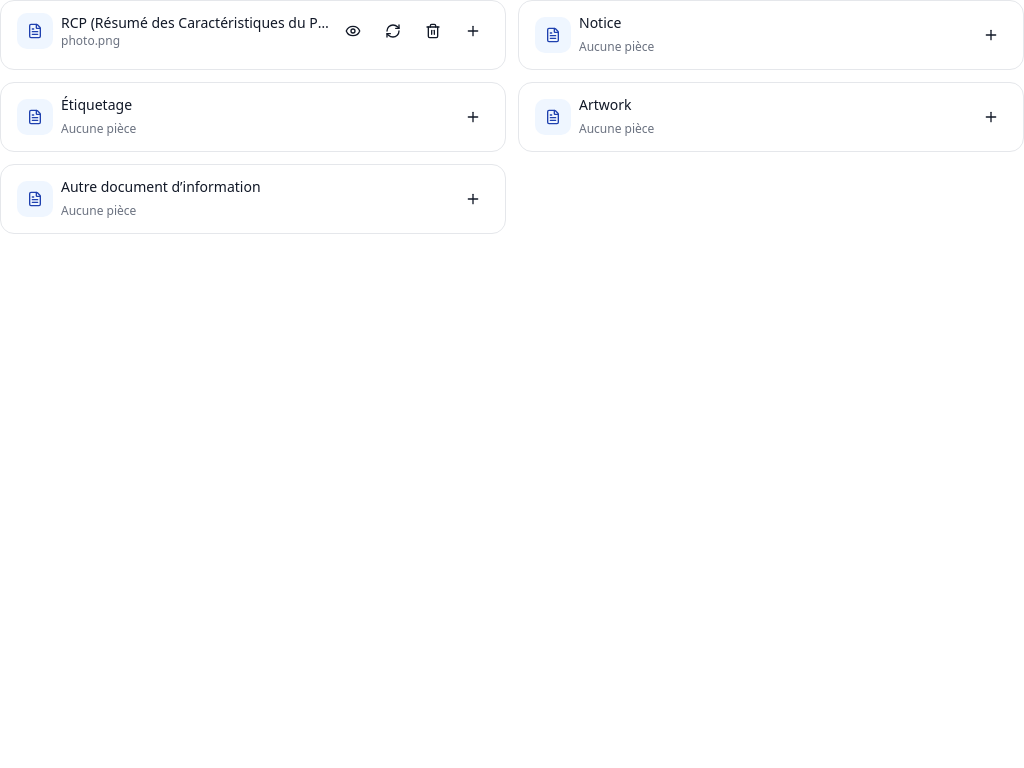
Scenario: DocTypeCards — ajout de pièces (wizard produit) › APERÇU : l’œil ouvre la pièce au premier plan (dialog nommé par le fichier)
The image size is (1024, 768).
Click the button named "Prévisualiser" at (353, 31), box top-left (337, 15), bottom-right (369, 47)
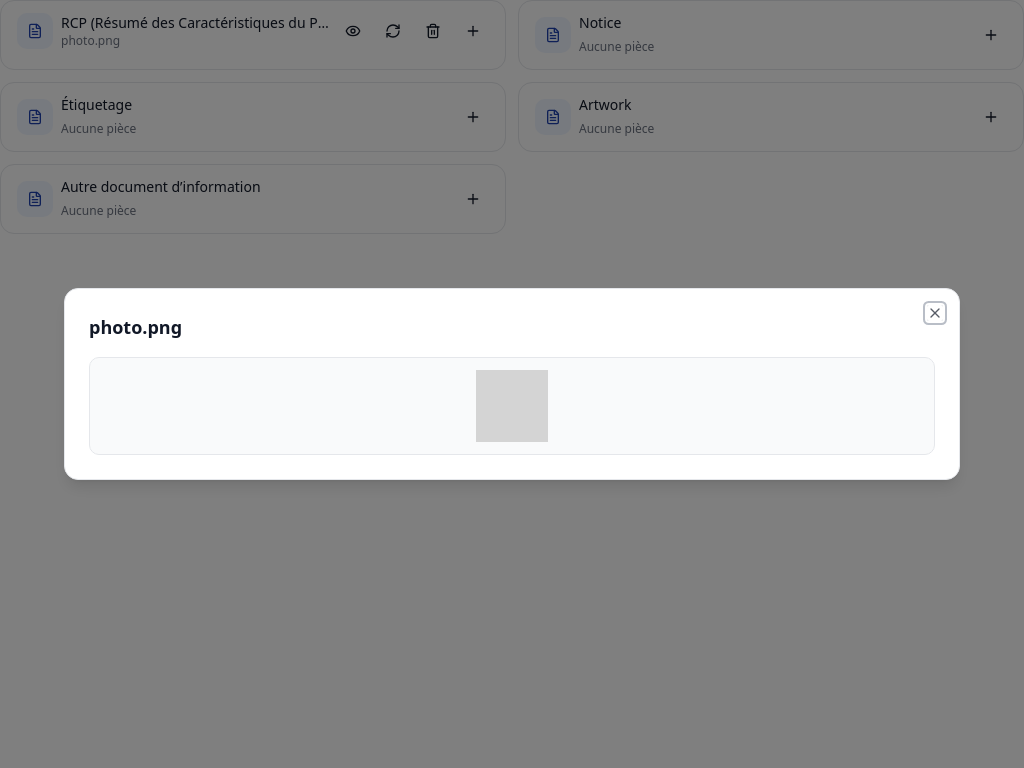
Check: the heading "photo.png" is shown, box top-left (89, 315), bottom-right (182, 339)
